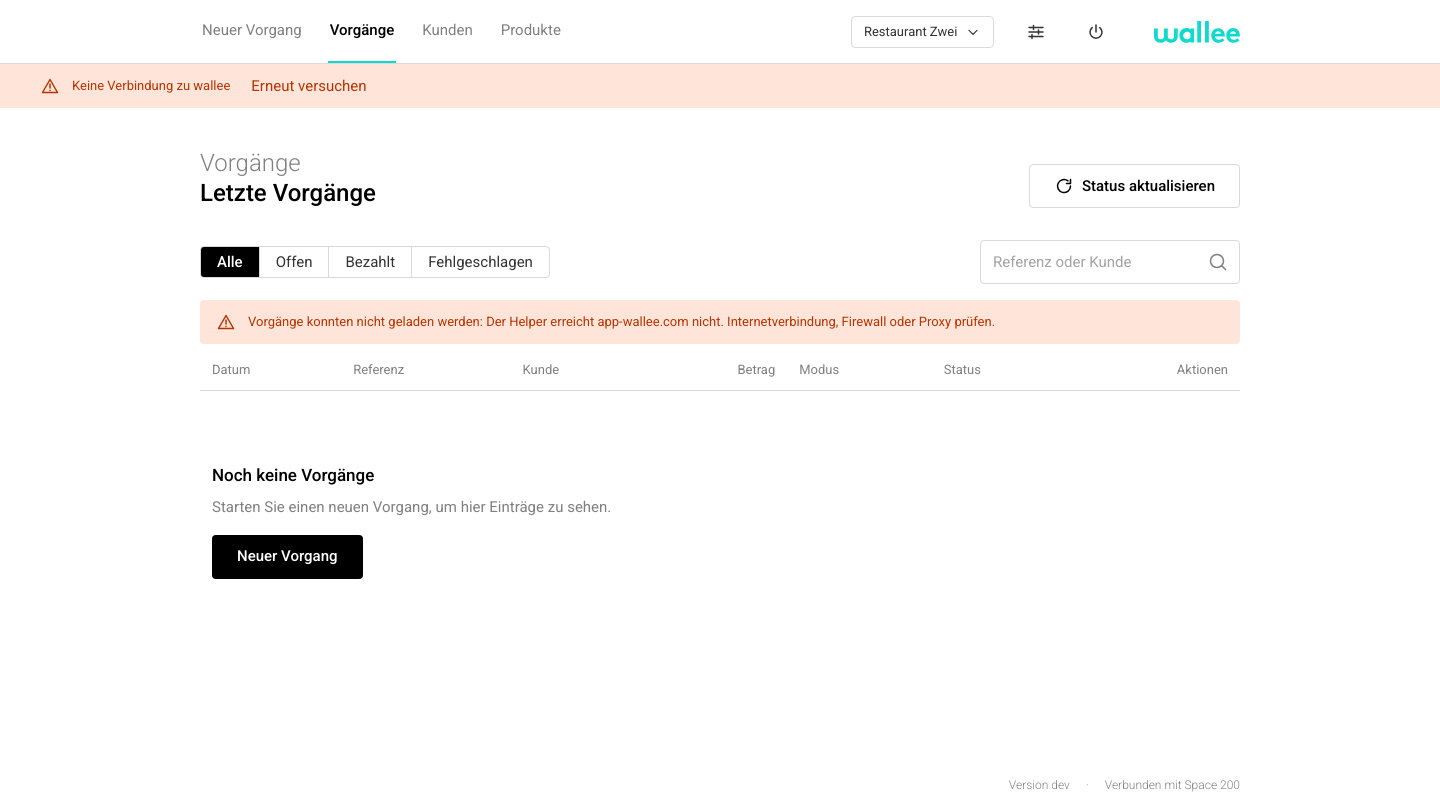
Test: multi-space header menu › lists the configured spaces and switches the active one
The image size is (1440, 810).
Expected: the text "PREVIEW" is not shown
Click the button with aria-label "Space wechseln" at (923, 32), box [851,16,994,48]
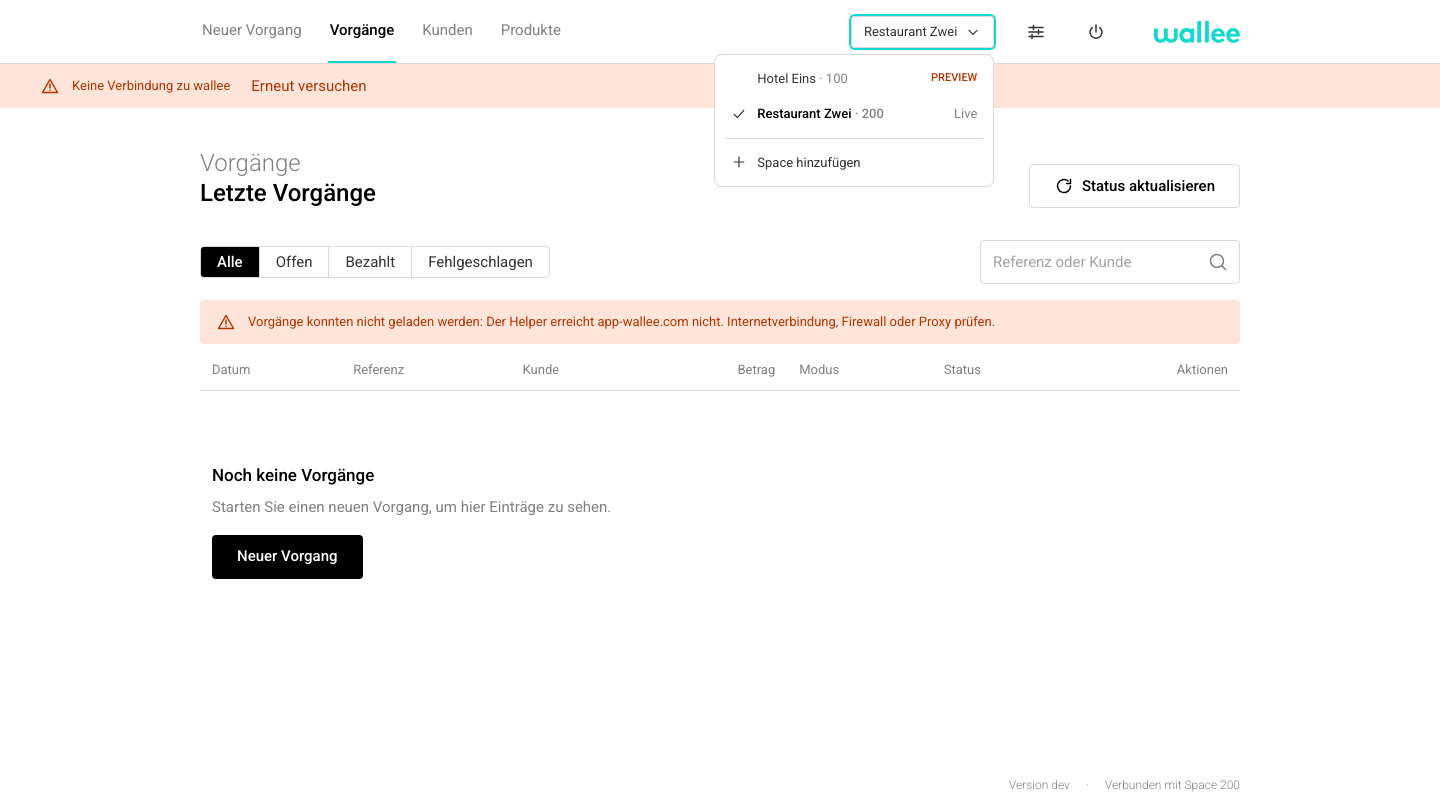
Click the menu item "Hotel Eins · 100 PREVIEW" at (787, 78), box [721,60,987,96]
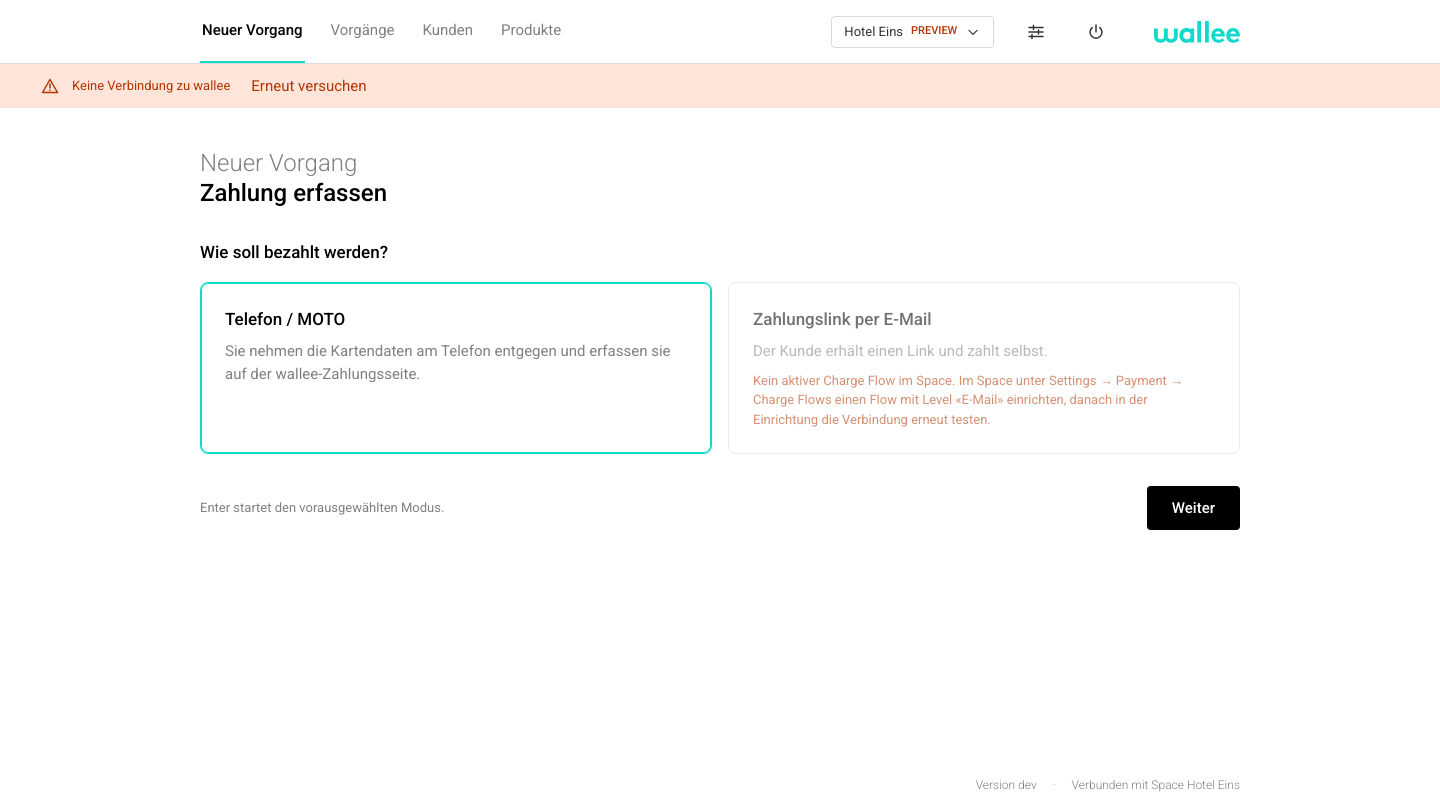
Now the text "PREVIEW" is shown, box [911,23,957,40]
Now the button with aria-label "Space wechseln" shows "Hotel Eins", box [831,16,994,48]
Now the text "Verbunden mit Space Hotel Eins" is shown, box [1072,776,1240,794]
